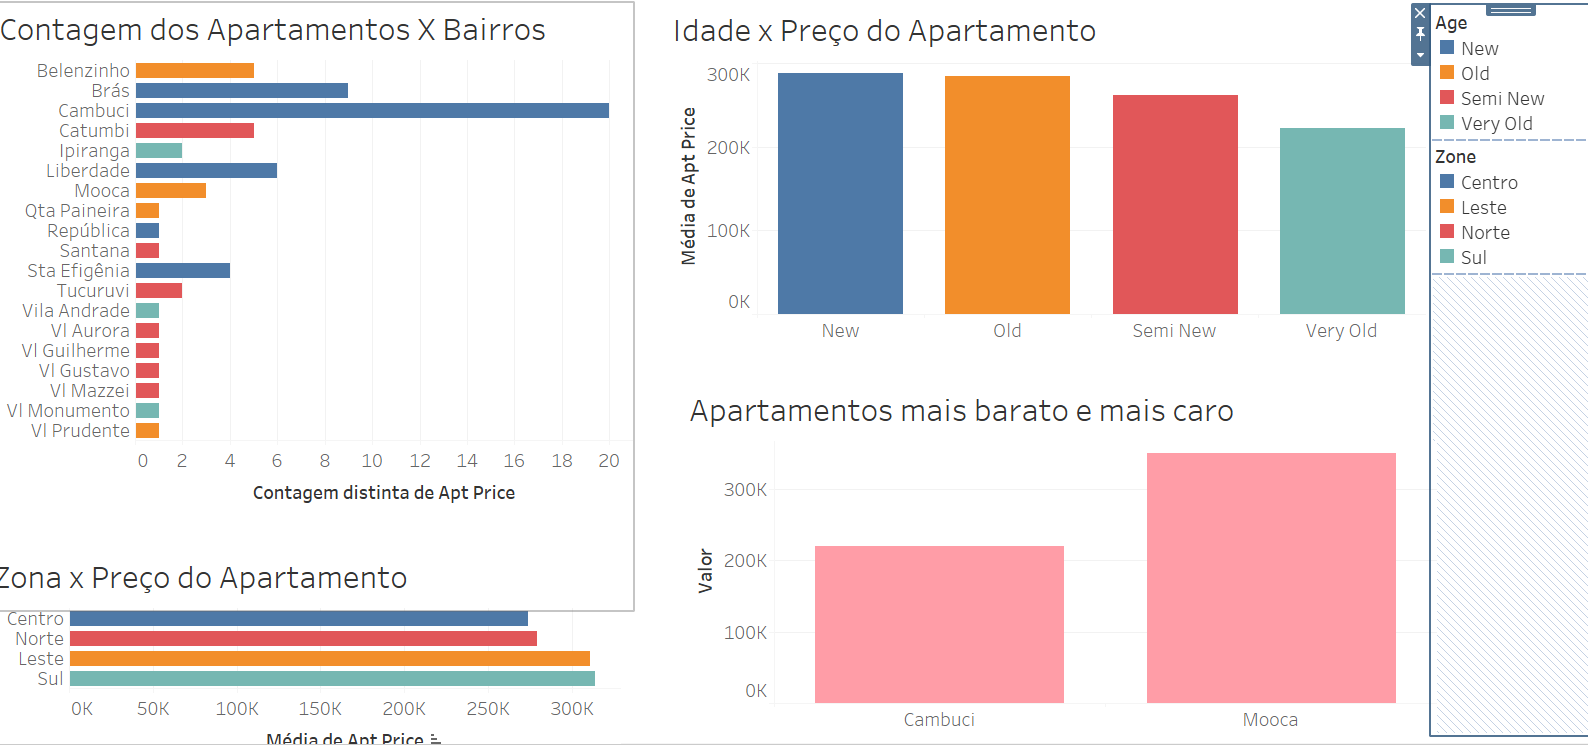

This screenshot's page, from the dashboard's own definition file:
{"tool":"tableau","page":{"name":"Dashboard Apartamento em SP","canvas":[1000,1000],"units":"permille","ordinal":0},"visuals":[{"type":"worksheet","title":"Contagem dos Apartamentos X Bairros","mark":"Automatic","rows":["neighborhood"],"cols":["apt_price"],"box":[0,8,397.5,813.7]},{"type":"worksheet","title":"Idade x Preço do Apartamento","mark":"Automatic","rows":["apt_price"],"cols":["age"],"box":[419.8,9.4,472.5,469.2]},{"type":"legend","title":"Idade x Preço do Apartamento","param":"[federated.0zb469i0xnx8ou1e97hmw1pquqnc].[none:age:nk]","box":[898.4,10.7,96.8,179.6]},{"type":"legend","title":"Contagem dos Apartamentos X Bairros","param":"[federated.0zb469i0xnx8ou1e97hmw1pquqnc].[none:zone:nk]","box":[898.4,190.3,96.8,179.6]},{"type":"worksheet","title":"Apartamentos mais barato e mais caro","mark":"Automatic","box":[430.1,518.8,468.8,466.5]}]}

Visuals, with their boxes on the dashboard's canvas, which has no fixed pixel size, in thousandths of its width and height (x1, y1, x2, y2). These are canvas units, not pixel positions in the 1588x745 screenshot, which may show the page scaled, cropped or inside an application window:
"Contagem dos Apartamentos X Bairros" worksheet: bbox(0, 8, 398, 822)
"Idade x Preço do Apartamento" worksheet: bbox(420, 9, 892, 479)
"Idade x Preço do Apartamento" legend: bbox(898, 11, 995, 190)
"Contagem dos Apartamentos X Bairros" legend: bbox(898, 190, 995, 370)
"Apartamentos mais barato e mais caro" worksheet: bbox(430, 519, 899, 985)
